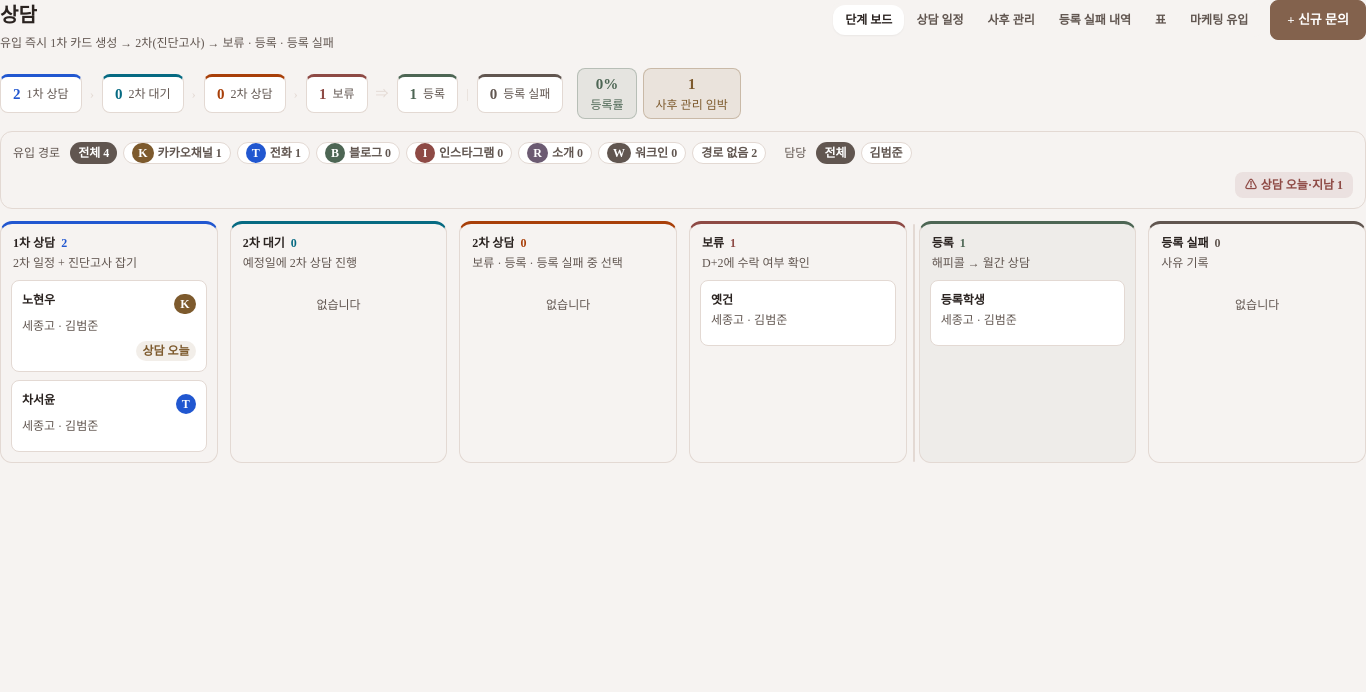
§23 상담 입구 (C90 · N-44 · N-45) › 접촉 원장은 서버 줄 그대로(최근 것이 앞 · 누가 · 언제 · 어떻게 · 다음은 언제)이고 「+ 기록」은 어떻게·한 줄·날짜를 보낸다 (N-44 · A-03)
Expected: the button "+ 신규 문의" is shown, [1270,0,1365,40]
Click the text "노현우" at (39, 300), box [22,290,55,308]
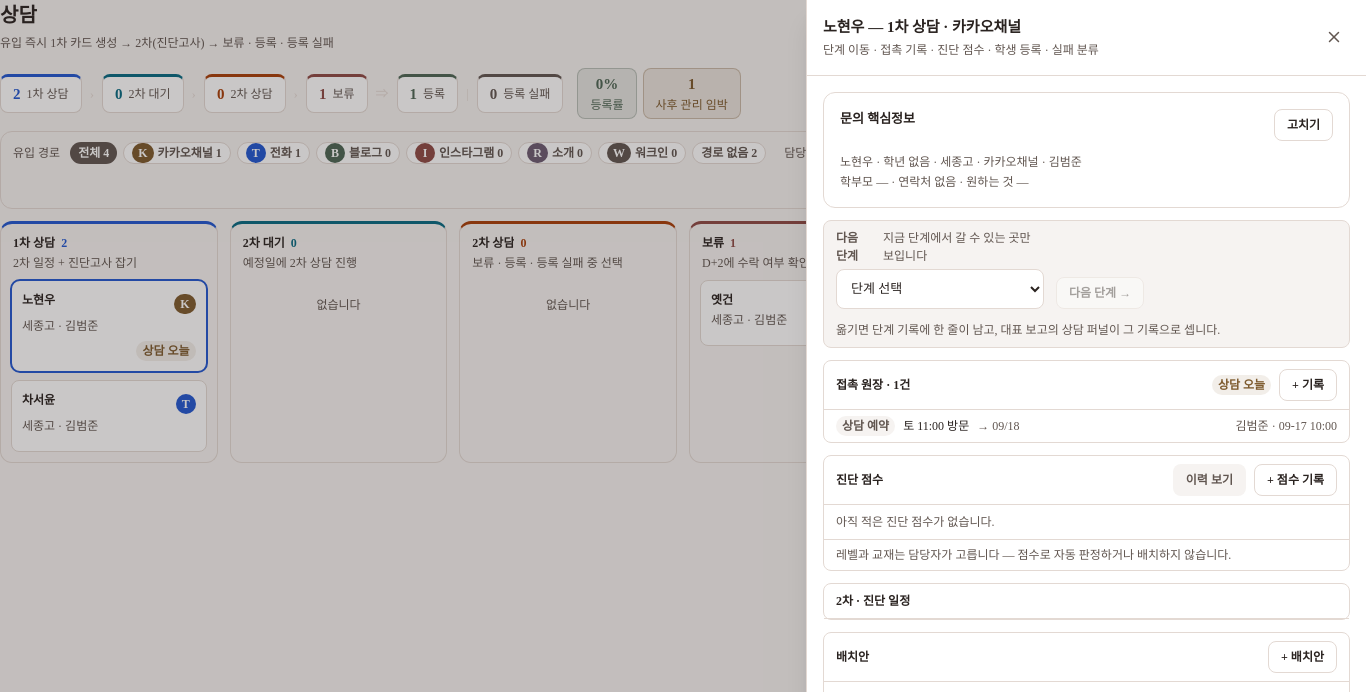
Now the element "접촉 원장" shows "상담 예약", box [842,418,889,432]
Now the element "접촉 원장" shows "토 11:00 방문", box [903,418,969,432]
Now the element "접촉 원장" shows "→ 09/18", box [823,360,1350,442]
Click the button "+ 기록" at (1308, 384), box [1279,368,1337,400]
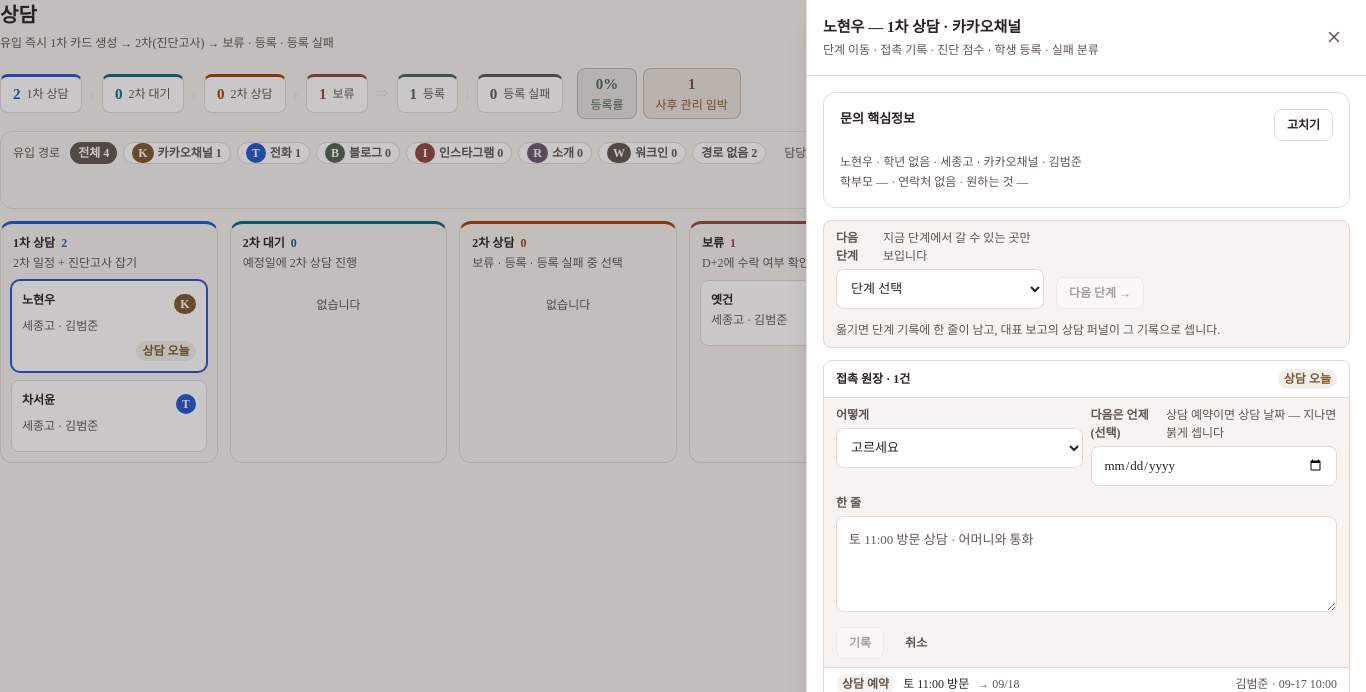
Now the button "기록" is disabled, box [836,626,884,658]
Select "예약 불참" in the dropdown labelled "어떻게" at (959, 448), box [836,428,1082,468]
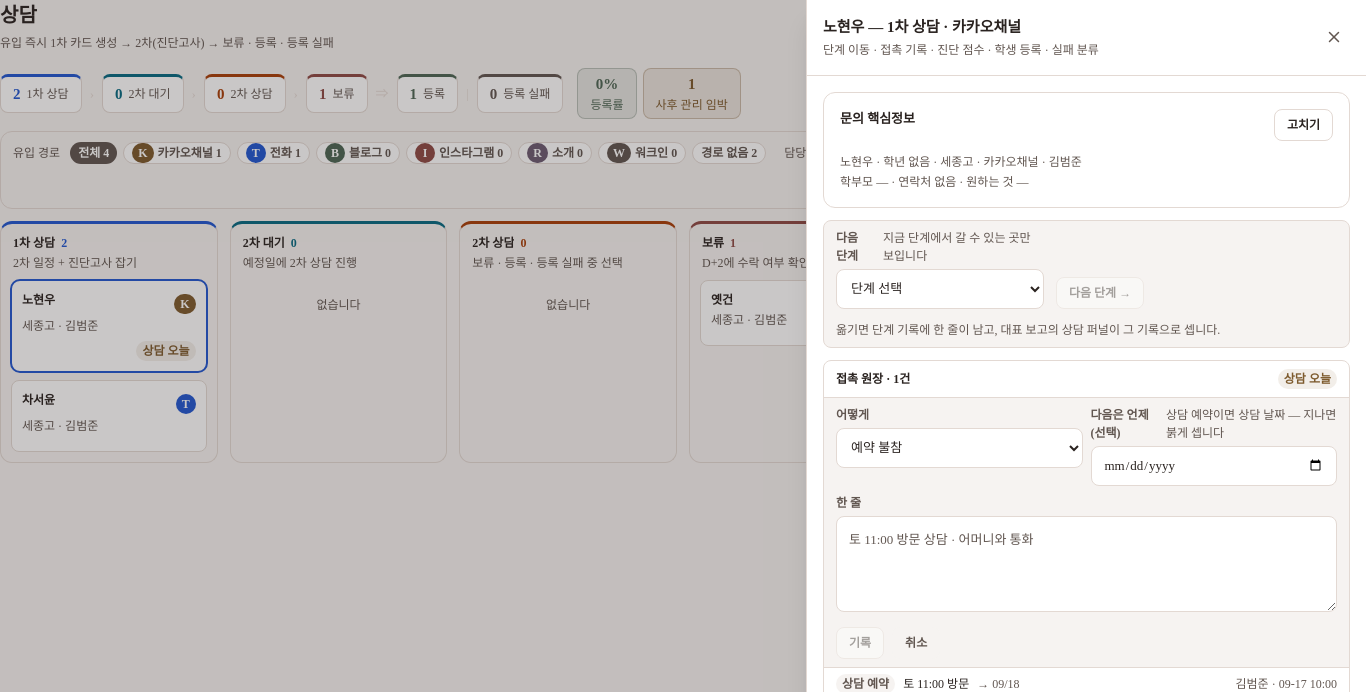
Type " 연락 없이 오지 않음 " into the text box labelled "한 줄" at (1086, 564), box [836,516,1337,612]
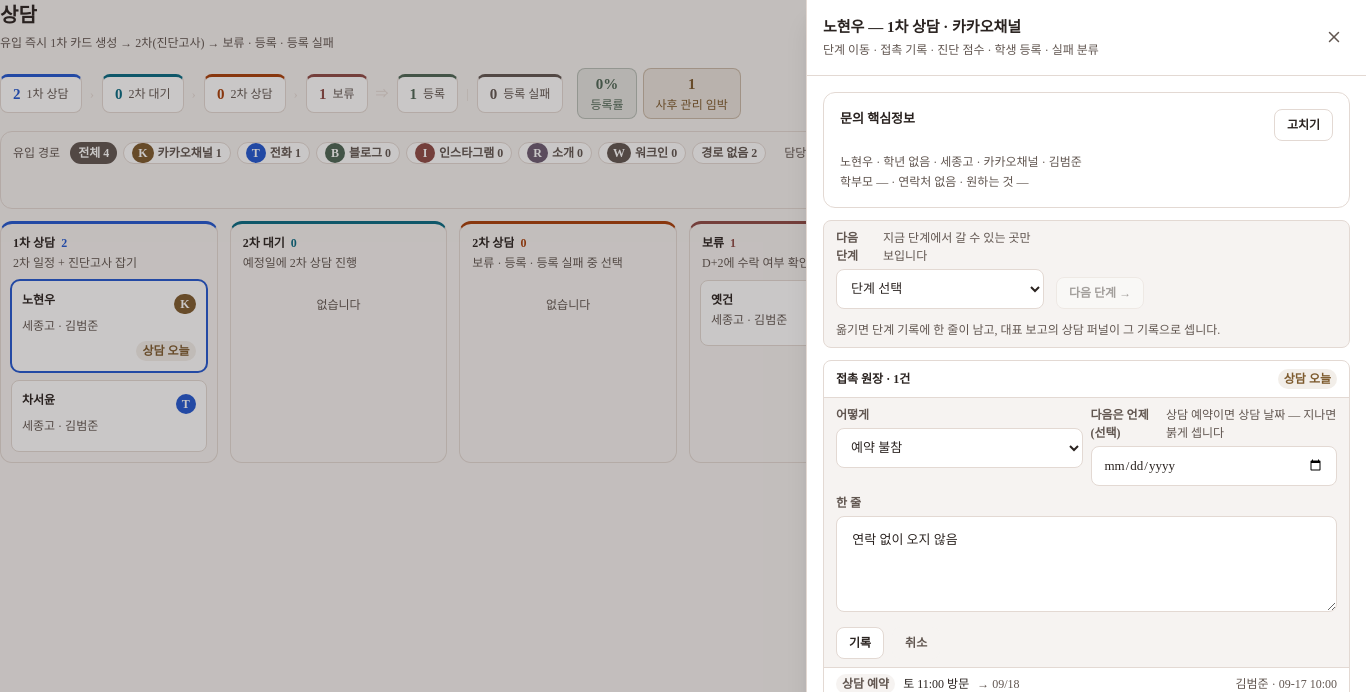
Type "2026-09-19" into the date field labelled "다음은 언제 (선택)" at (1214, 466), box [1090,446,1337,486]
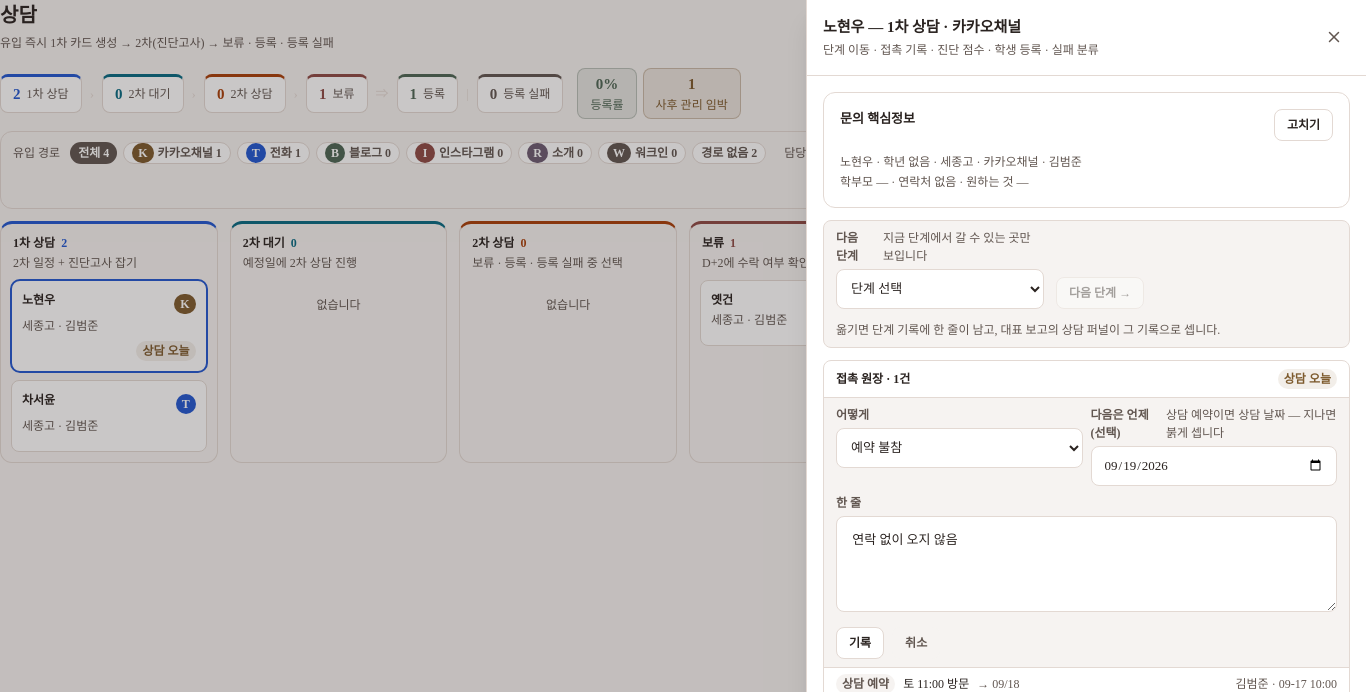
Click the button "기록" at (860, 642), box [836,626,884,658]
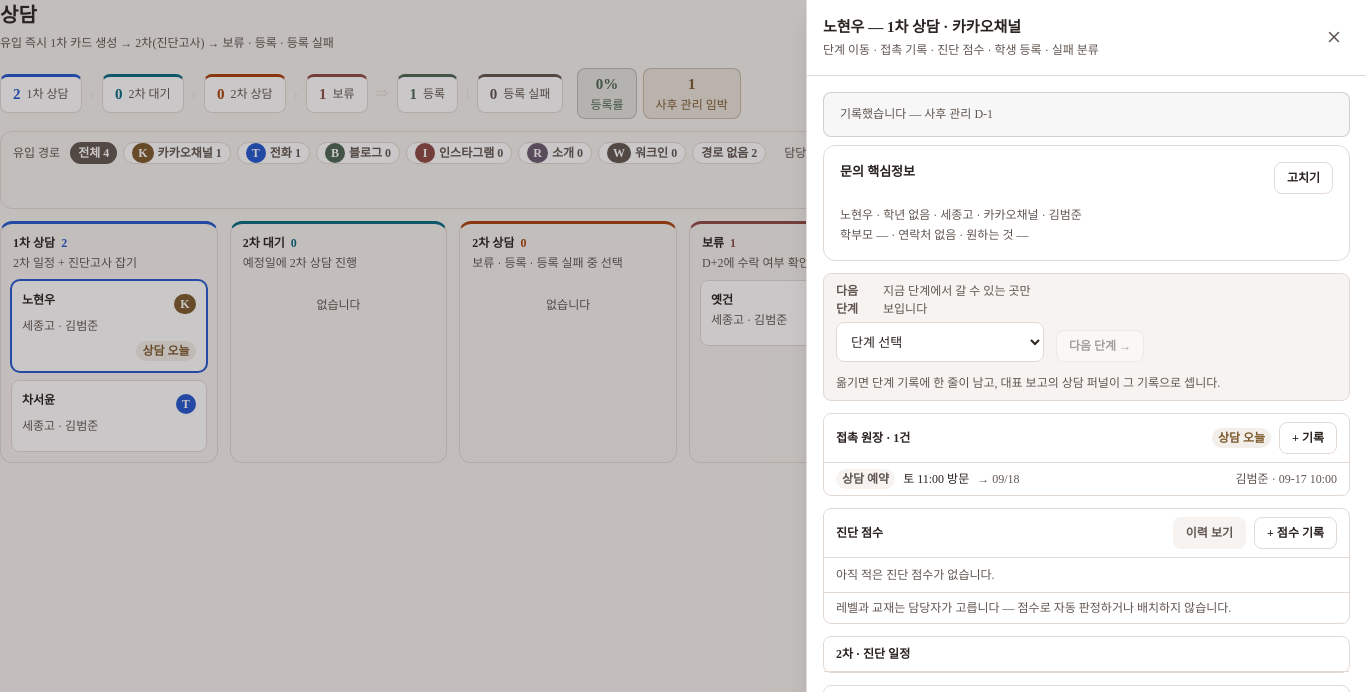
Now the text "기록했습니다 — 사후 관리 D-1" is shown, box [823,92,1350,137]
